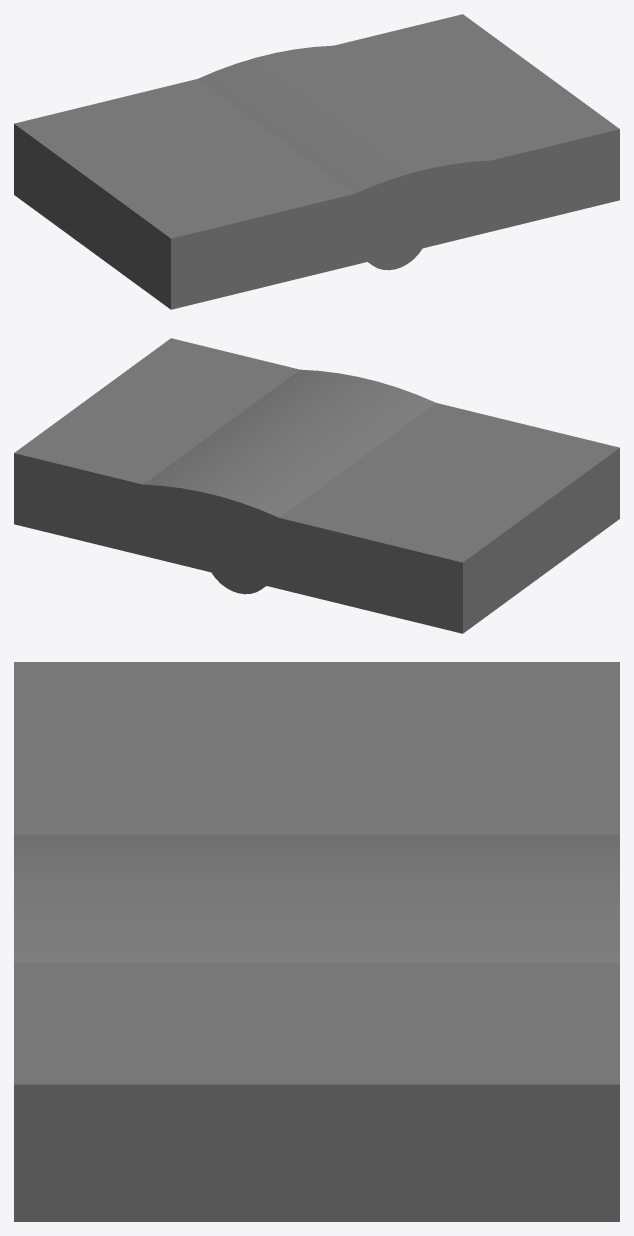
The picture shows the model from 3 angles, top to bottom: view 1: azimuth 30°, elevation 25°; view 2: azimuth 150°, elevation 25°; view 3: azimuth 270°, elevation 25°; orthographic projection. The views are drawn at different scales.
Parts seen in each view (by area): view 1: mesh_id4, mesh_id5; view 2: mesh_id4, mesh_id5; view 3: mesh_id4, mesh_id5.
Part boxes in pixels (box(x1,y1,x2,y2)): mesh_id4: box(14, 14, 619, 309); mesh_id5: box(198, 45, 490, 270); mesh_id4: box(14, 338, 619, 633); mesh_id5: box(143, 369, 435, 594); mesh_id4: box(14, 662, 619, 1221); mesh_id5: box(14, 835, 619, 962).
Size of the model in its own units: 0.512 by 0.1007 by 0.3103.
Materials: 2 (2 with a texture image).
